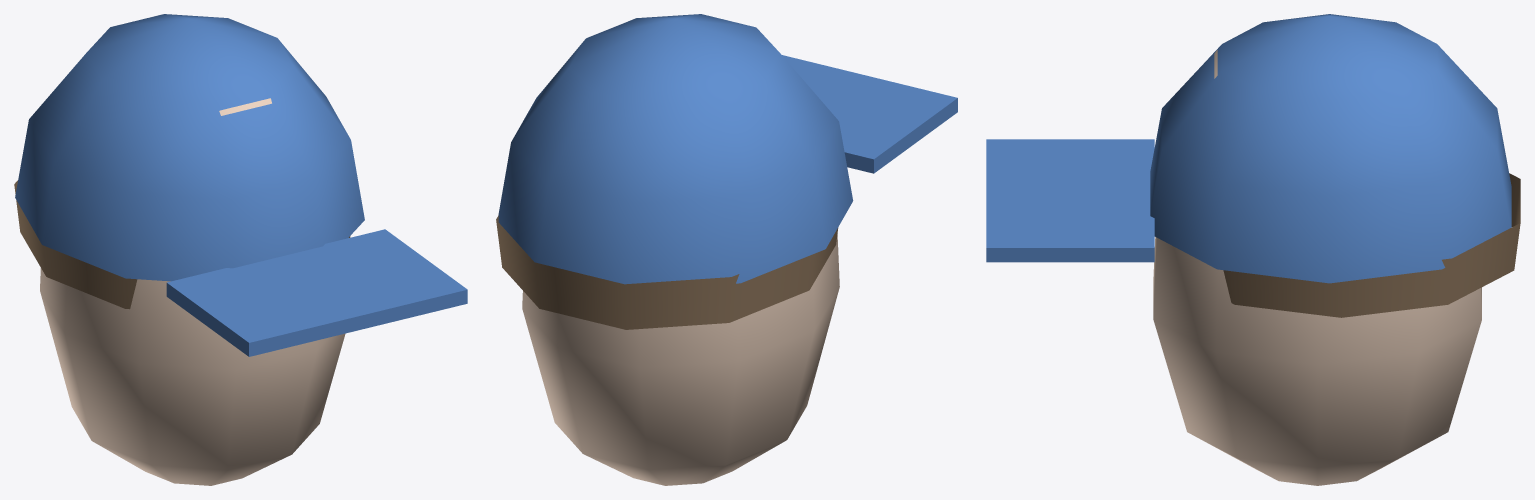
File: head_hat.glb
3 renders of one model, left to right at view 1: azimuth 30°, elevation 25°; view 2: azimuth 150°, elevation 25°; view 3: azimuth 270°, elevation 25°, orthographic.
Visible parts, largest first — view 1: head_hat; view 2: head_hat; view 3: head_hat.
Boxes of the visible parts, x1,y1,x2,y2 form: head_hat: (14,14,467,485); head_hat: (496,14,957,485); head_hat: (986,14,1520,485).
Size of the model in its own units: 0.176 by 0.248 by 0.27.
